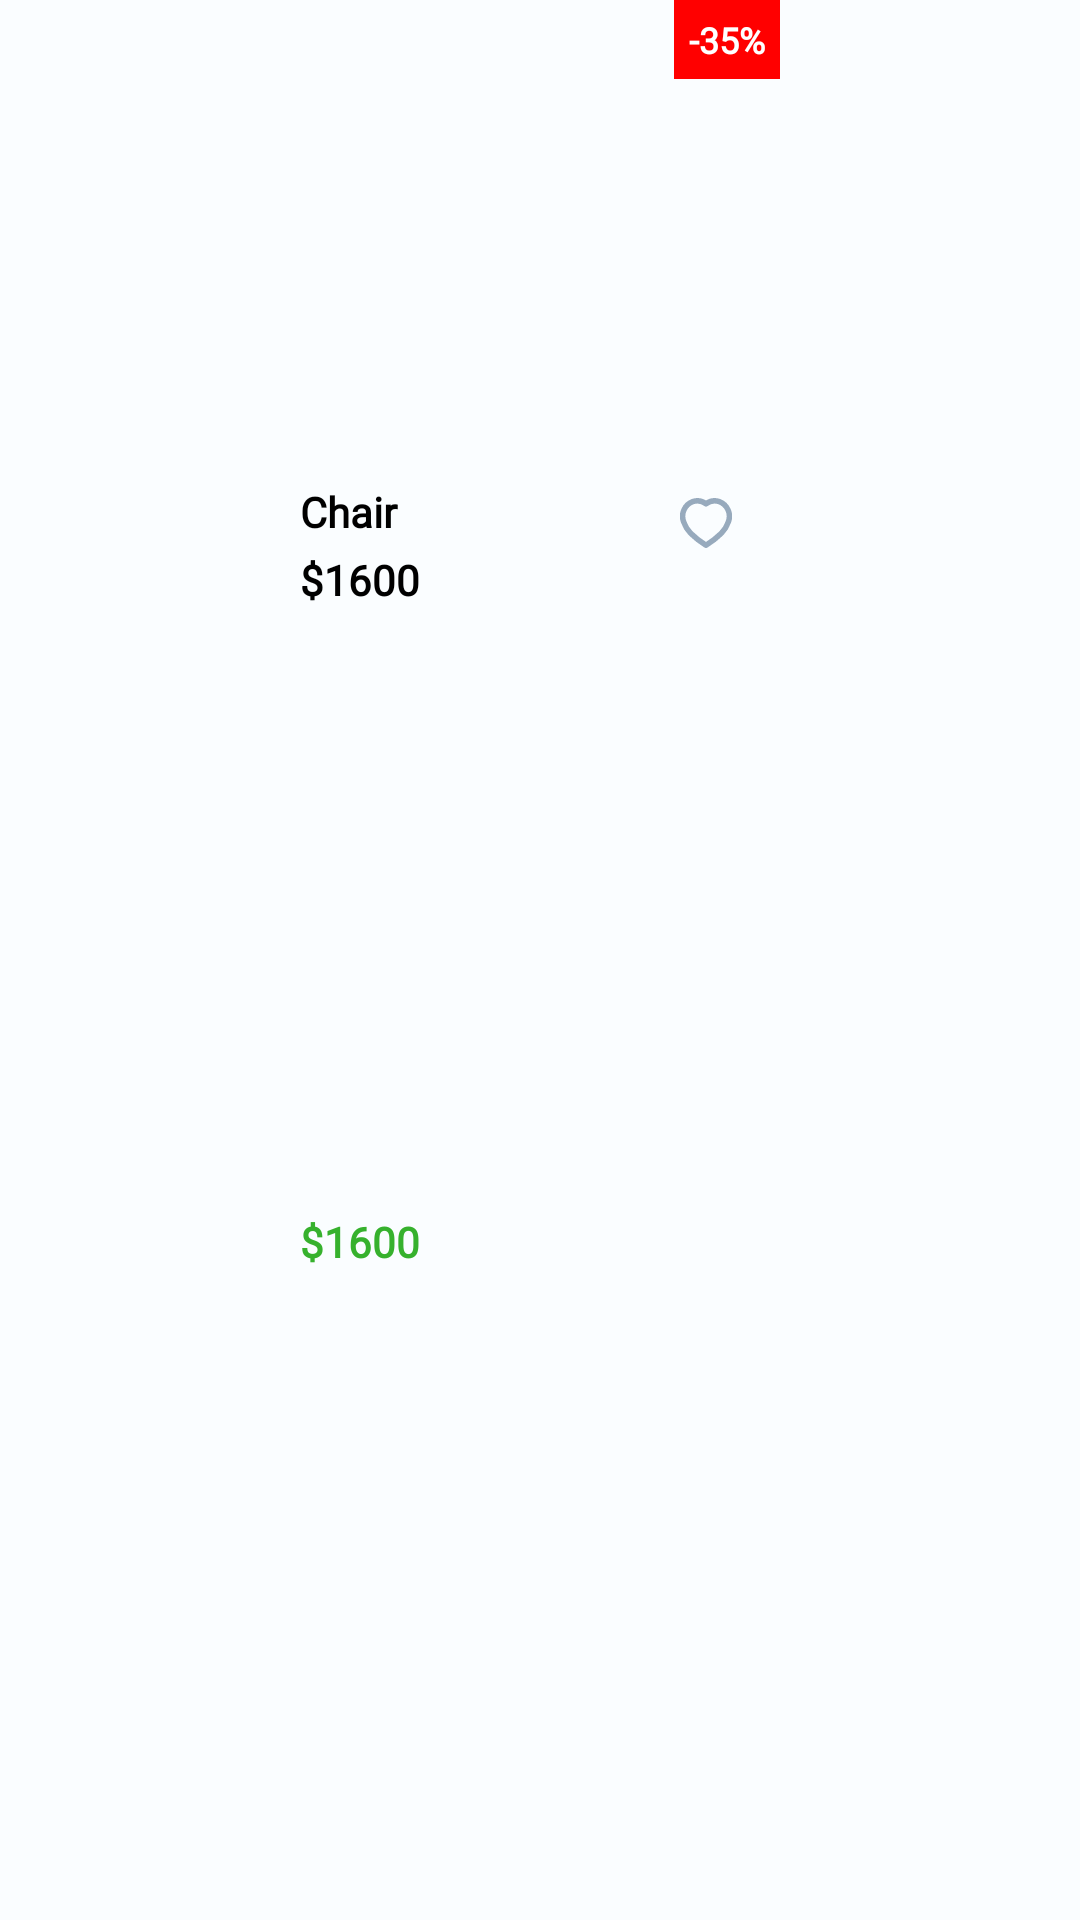

Icon click points for this 1080x1920 phone screenshot, format (x,y):
favorite: (706,523)
